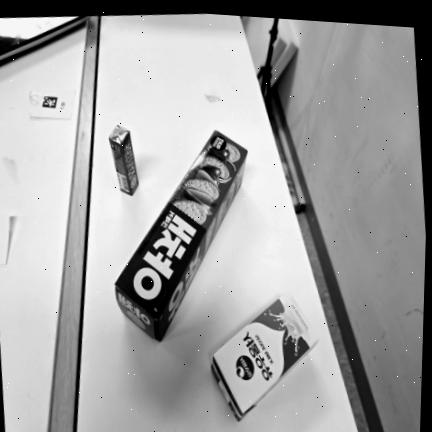cracker_vege: (114, 130, 248, 342)
gum_green: (109, 124, 139, 196)
milk_green: (211, 290, 319, 423)
